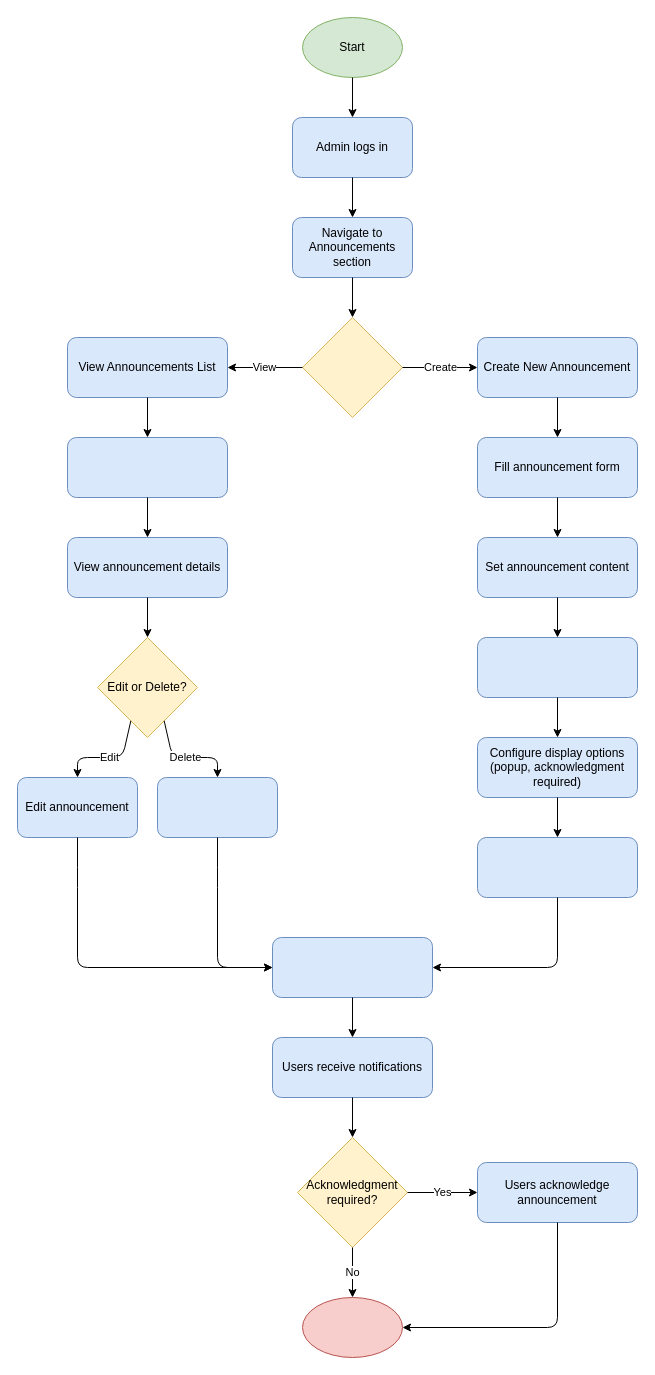
Image size: 655x1375. Some labels were removed from this diagram. The centre of each missing label's shape, as x and y in pixels:
Delete announcement: [217,807]
End: [352,1327]
Publish announcement: [557,867]
Select action: [352,367]
Select announcement to view or edit: [147,467]
Set target audience and priority: [557,667]
System generates notifications for users: [352,967]
